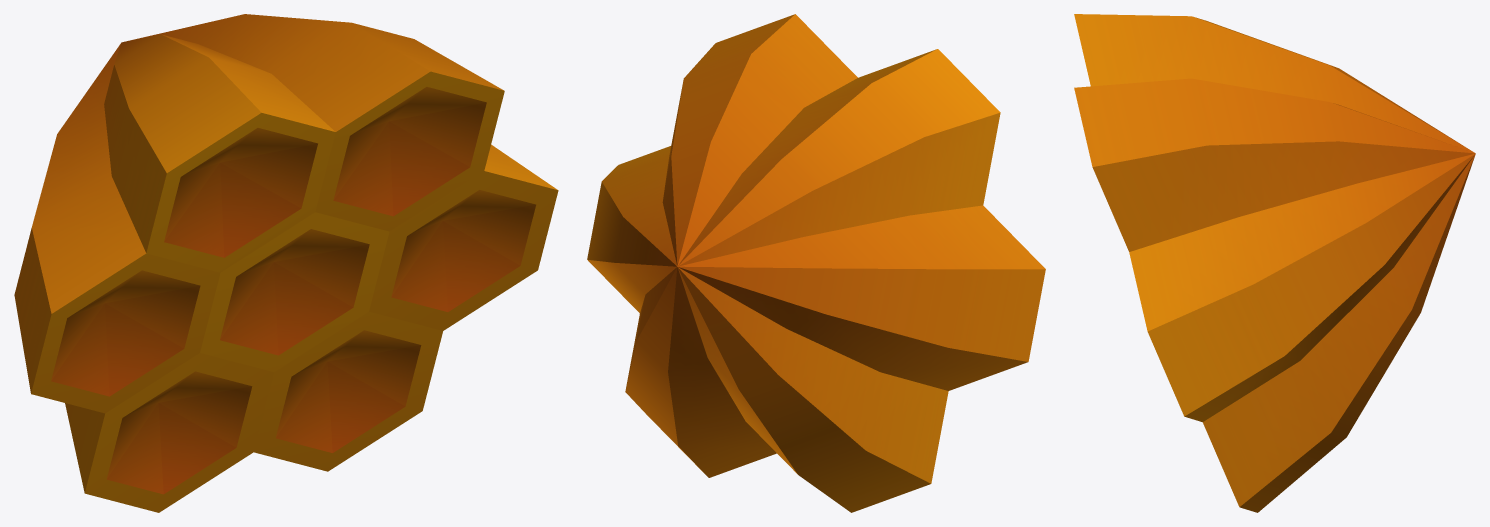
Rendered from hive.glb.
3 views of the same model, side by side, from view 1: azimuth 30°, elevation 25°; view 2: azimuth 150°, elevation 25°; view 3: azimuth 270°, elevation 25° (orthographic). The views are drawn at different scales.
Visible parts, largest first — view 1: hive; view 2: hive; view 3: hive.
Boxes of the visible parts, x1,y1,x2,y2 form: hive: (14, 14, 558, 512); hive: (587, 14, 1045, 512); hive: (1074, 14, 1475, 512).
Size of the model in its own units: 1.21 by 1.09 by 0.9274.
Materials: 1 (1 with a texture image).
